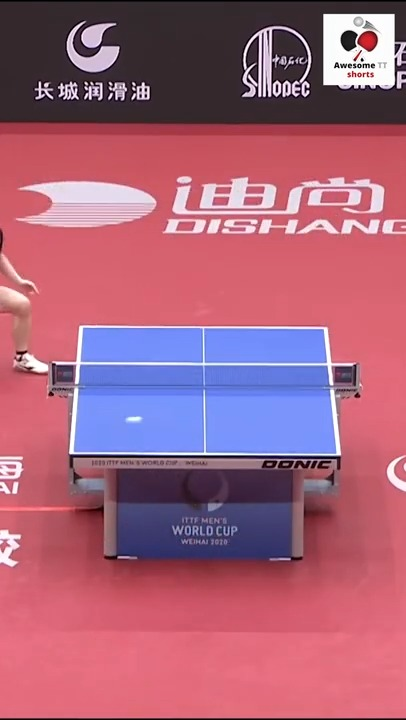Ball: (128, 412, 146, 427)
